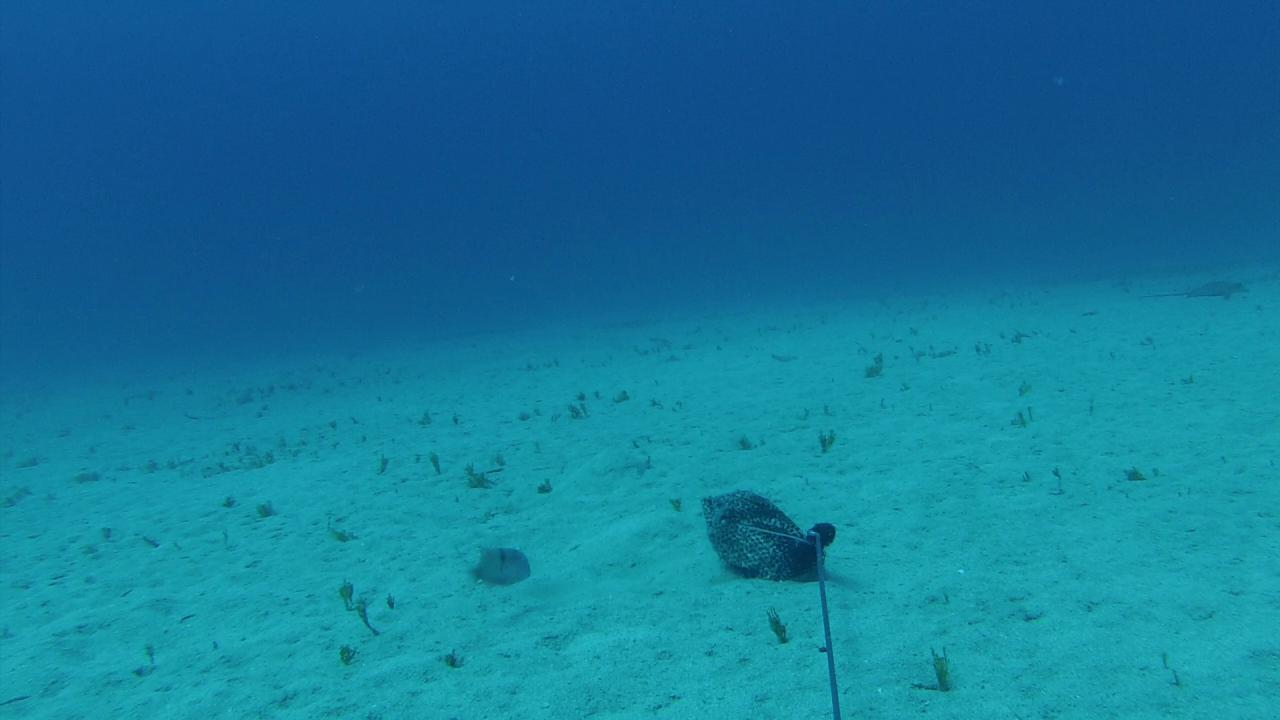dasyatis: (1136, 279, 1248, 298)
raor: (471, 541, 532, 590)
